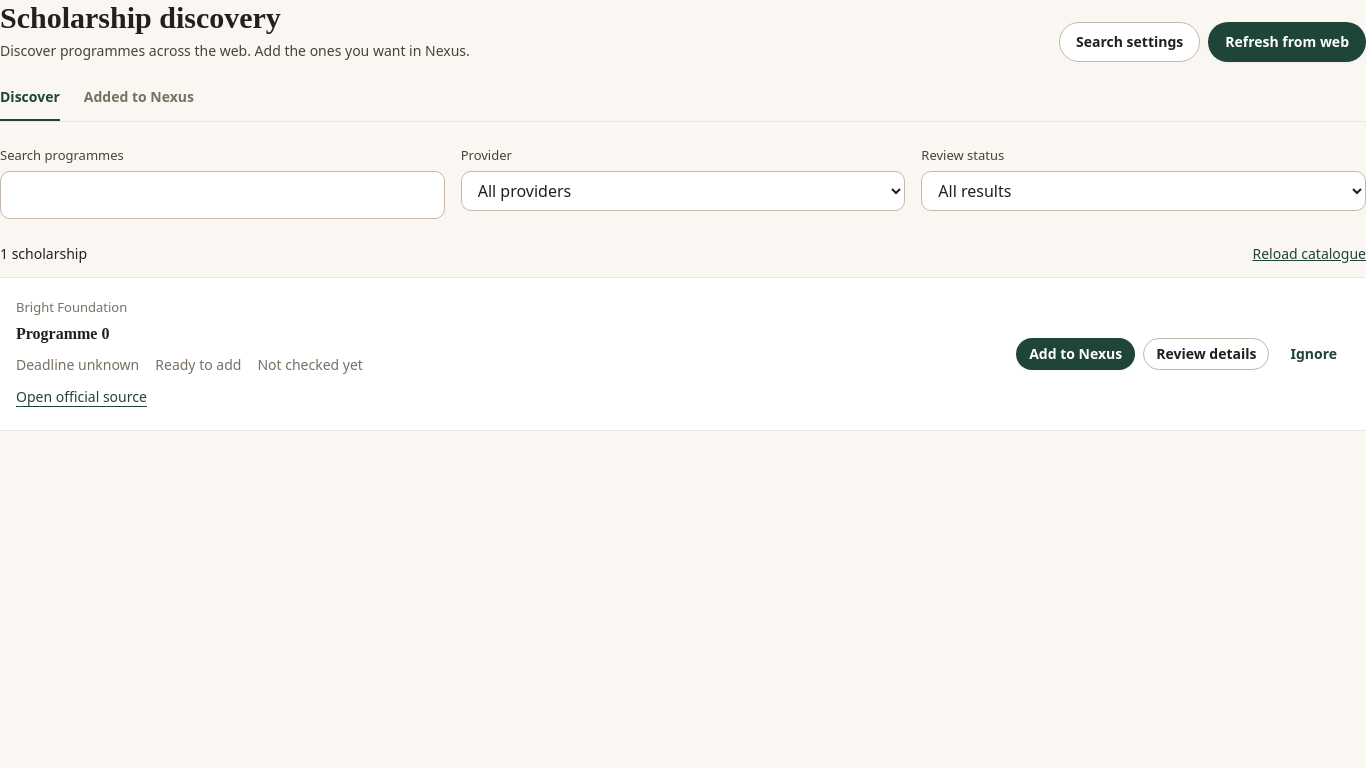
Test: reloads fresh details after a stale review conflict
Check: the text "1 scholarship" is shown, box [0,243,87,265]
Click the button "Review details".
click(1206, 354)  # box [1143,338,1270,370]
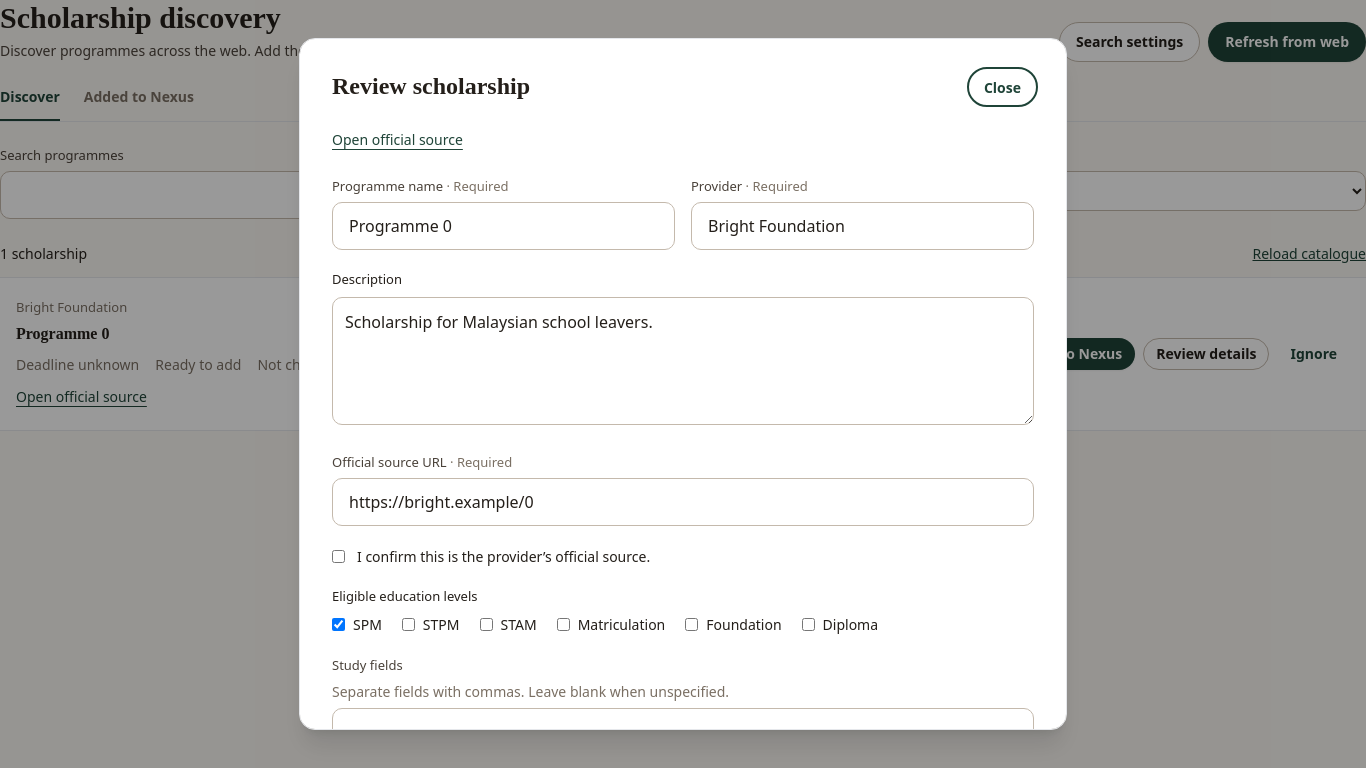
Click the checkbox labelled "I confirm this is the provider’s official source.".
click(338, 556)  # box [332,550,345,562]
(page scrolled)
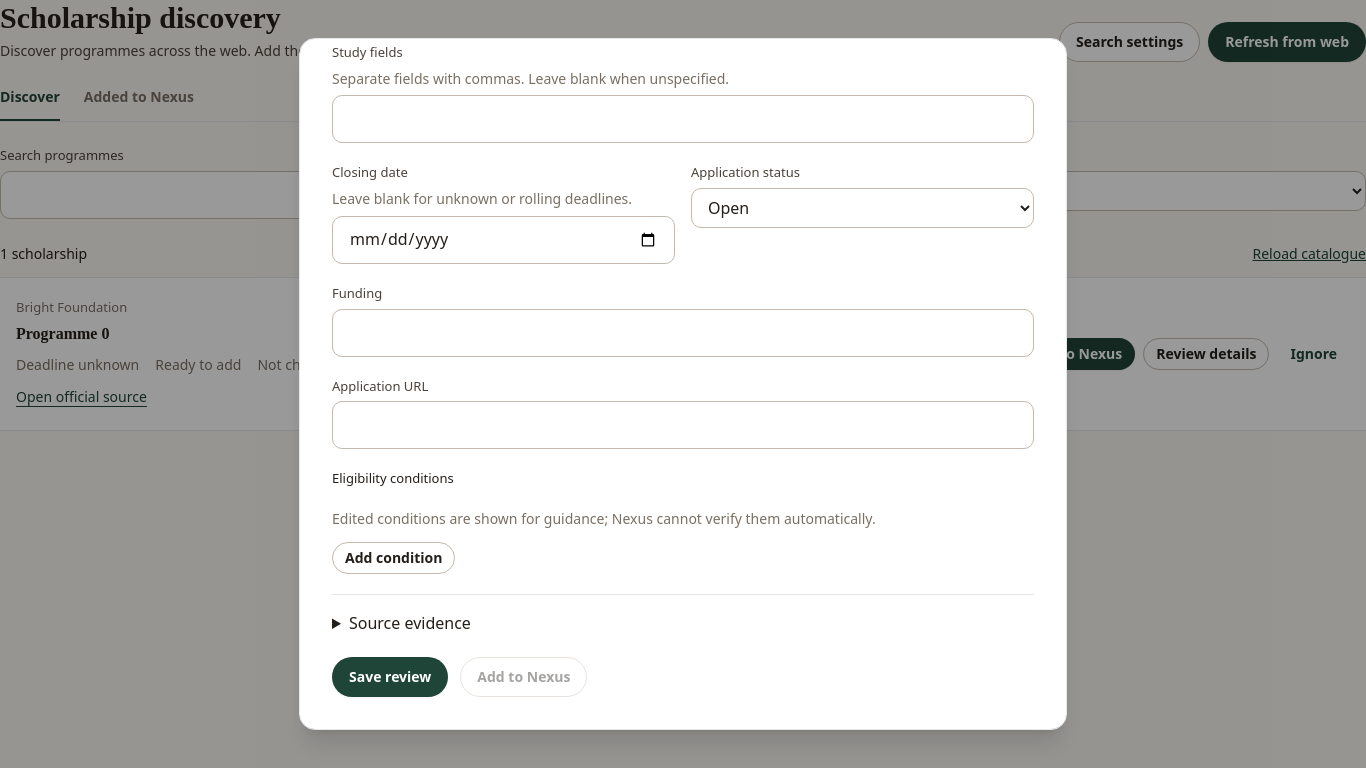
Click the button "Save review".
click(390, 677)  # box [332,657,448,697]
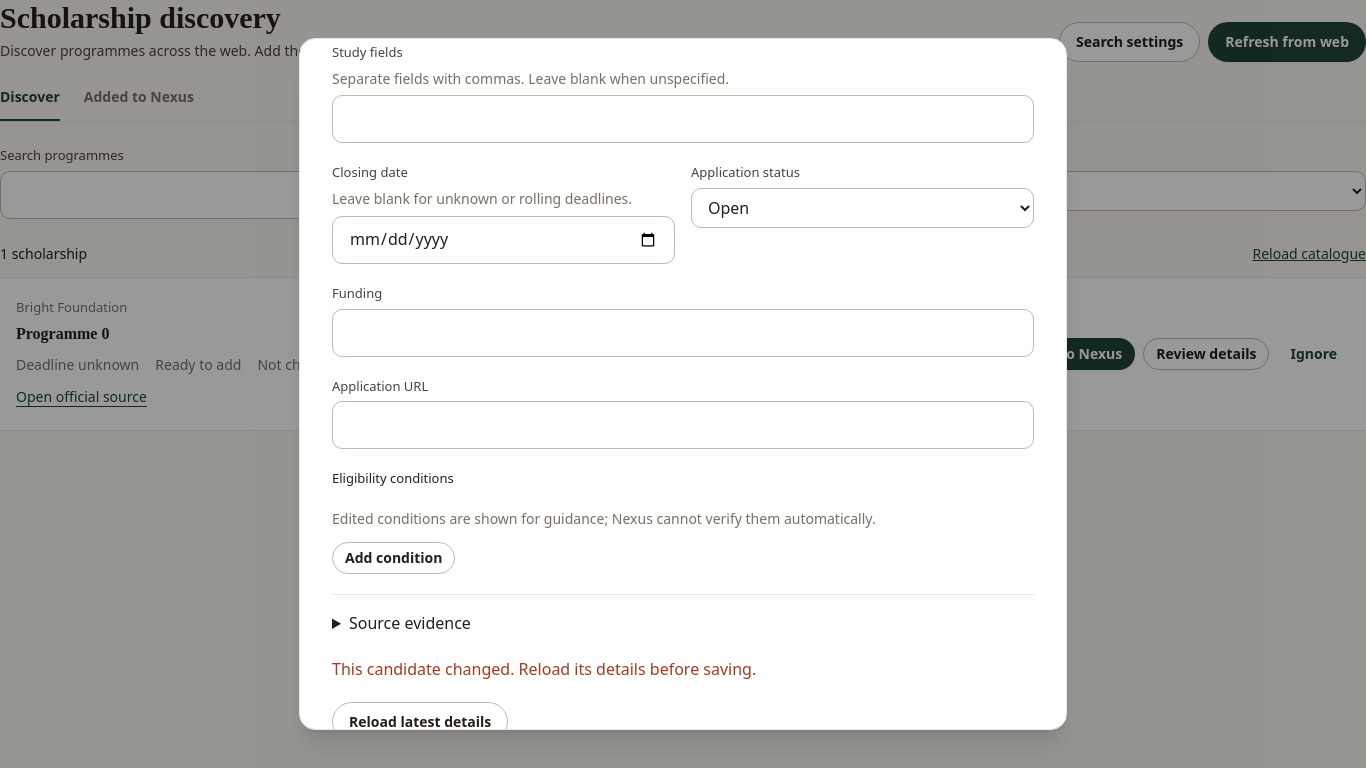
Check: the text "This candidate changed. Reload its details before saving." is shown, box [332,658,756,680]
Click the button "Reload latest details".
click(420, 722)  # box [332,702,508,742]
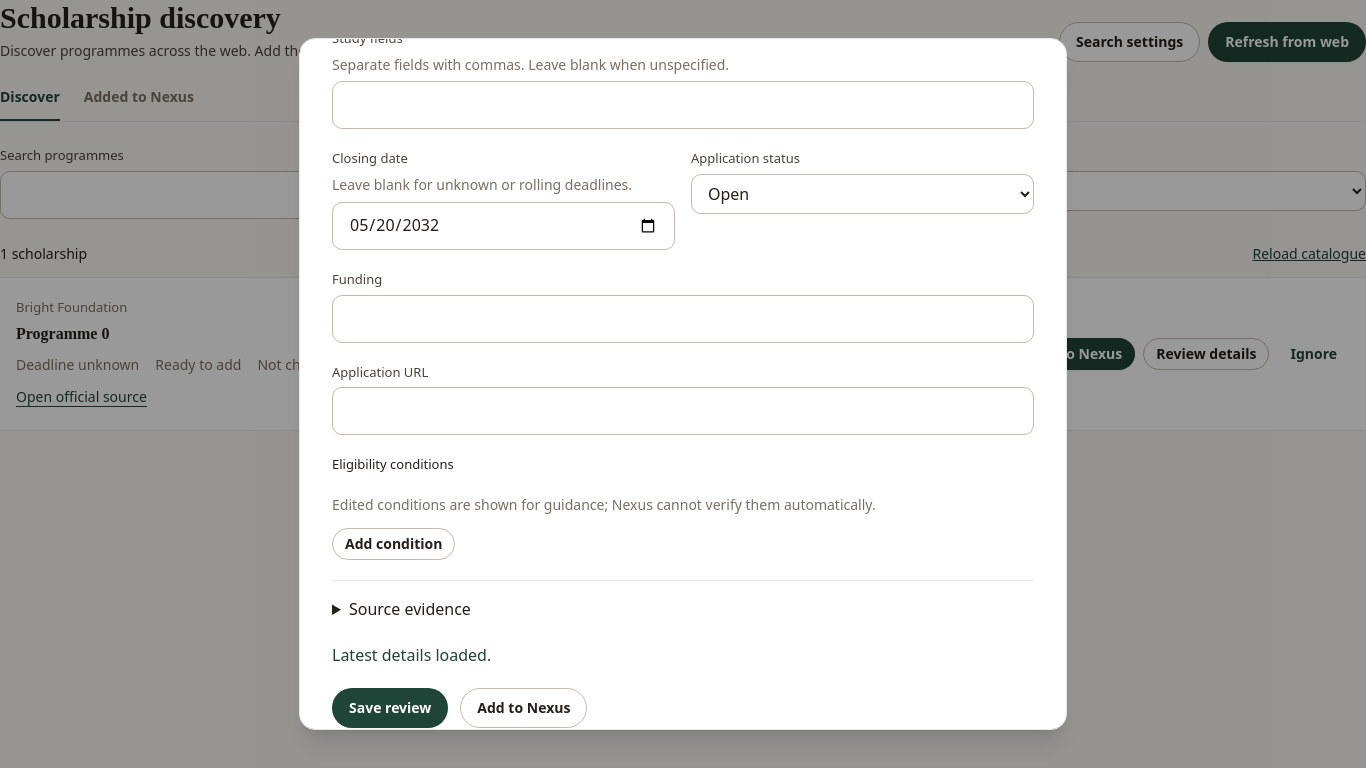
Check: the text "Latest details loaded." is shown, box [332,644,491,666]
Check: the date field labelled "Closing date" holds "2032-05-20", box [332,202,675,250]
